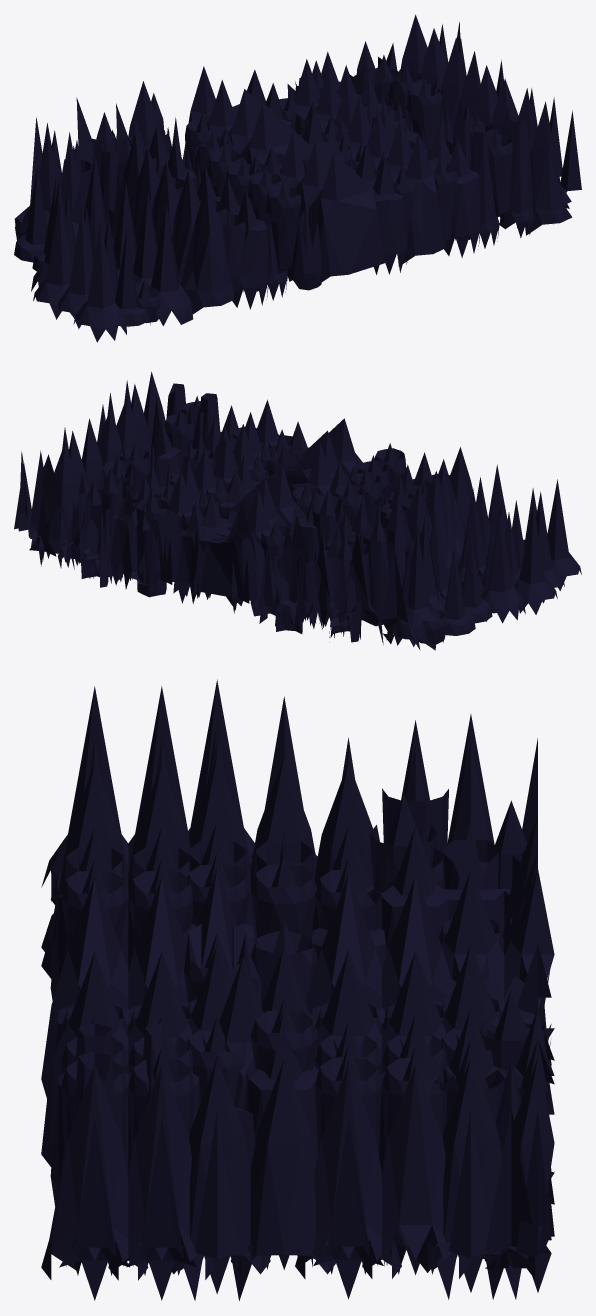
File: dangerous_stone.fbx
3 renders of one model, top to bottom at view 1: azimuth 30°, elevation 25°; view 2: azimuth 150°, elevation 25°; view 3: azimuth 270°, elevation 25°, orthographic. The views are drawn at different scales.
Visible parts, largest first — view 1: Icosphere.3588; view 2: Icosphere.3588; view 3: Icosphere.3588.
Boxes of the visible parts, x1,y1,x2,y2 form: Icosphere.3588: [14, 14, 581, 342]; Icosphere.3588: [14, 371, 581, 650]; Icosphere.3588: [41, 679, 554, 1300].
Size of the model in its own units: 61.37 by 127 by 32.96.
